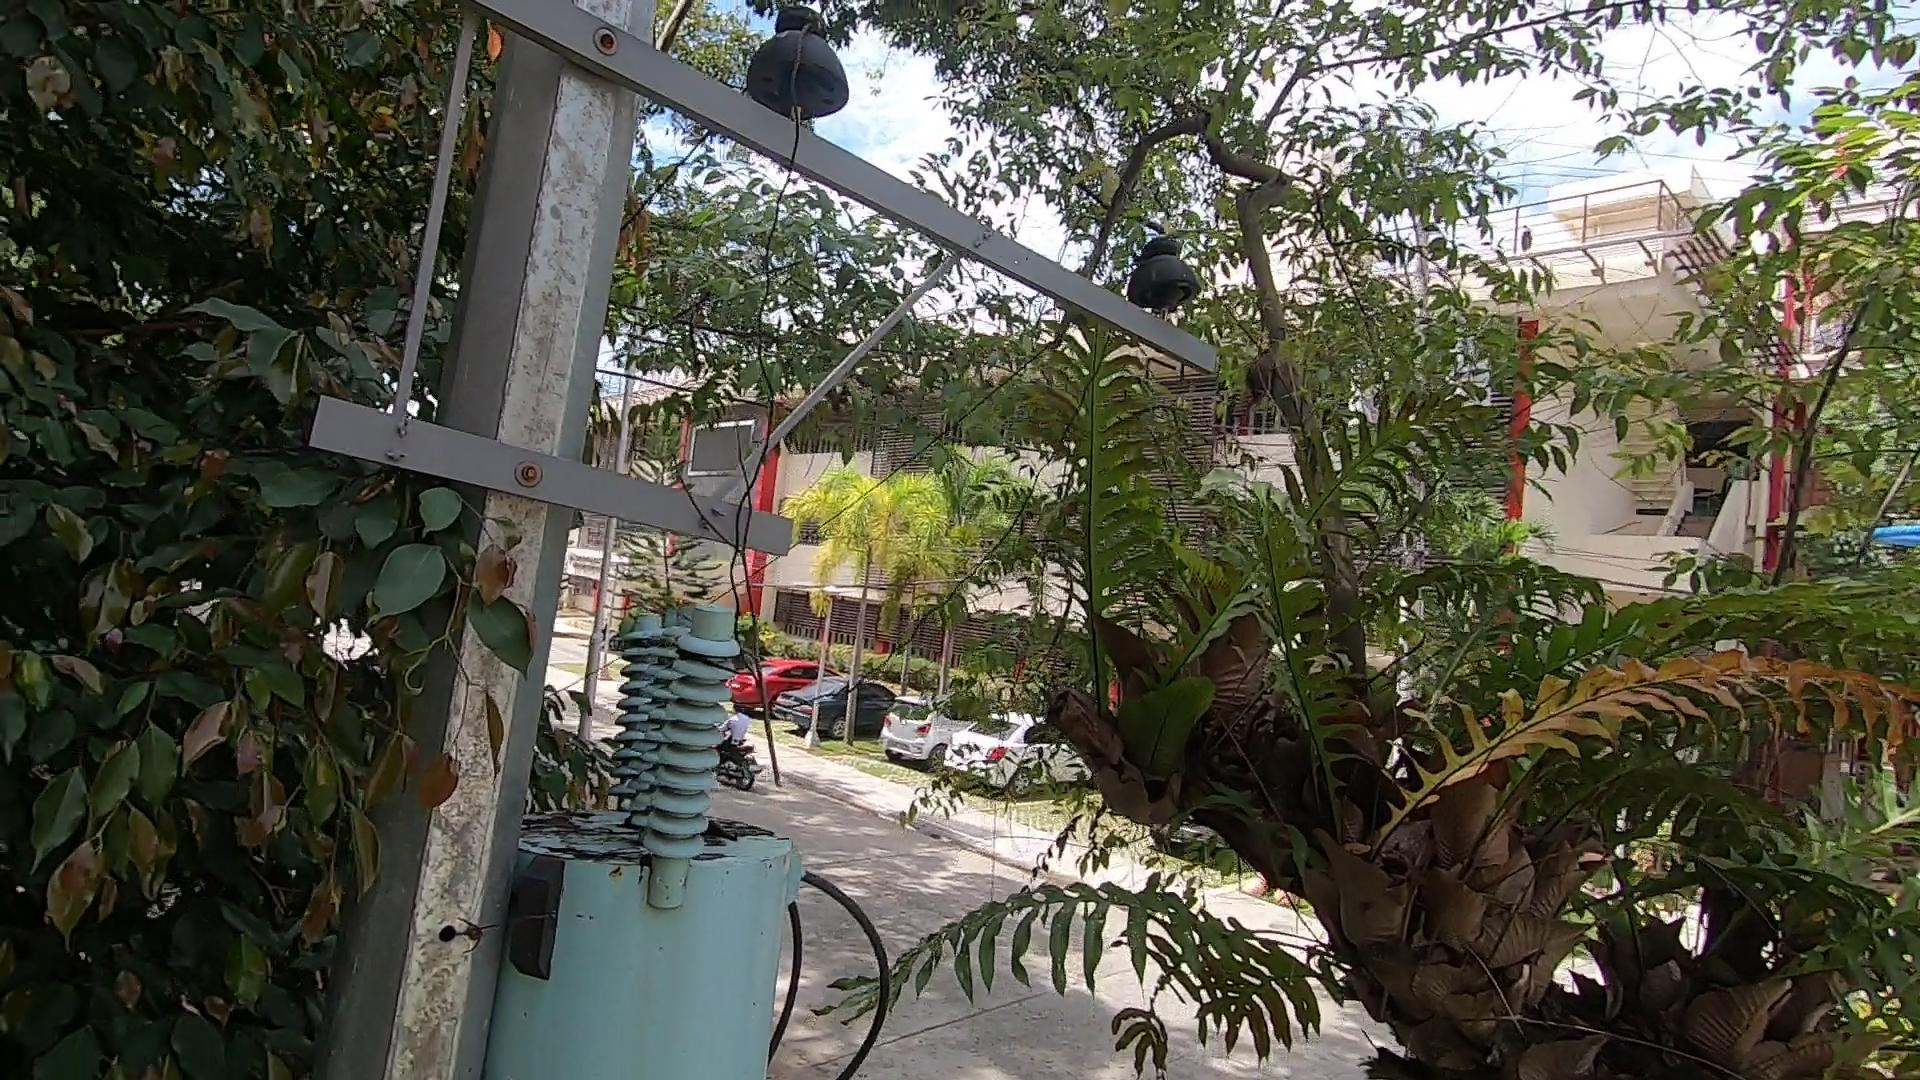leaf: (705, 807, 752, 848)
tree branch: (651, 380, 819, 789)
